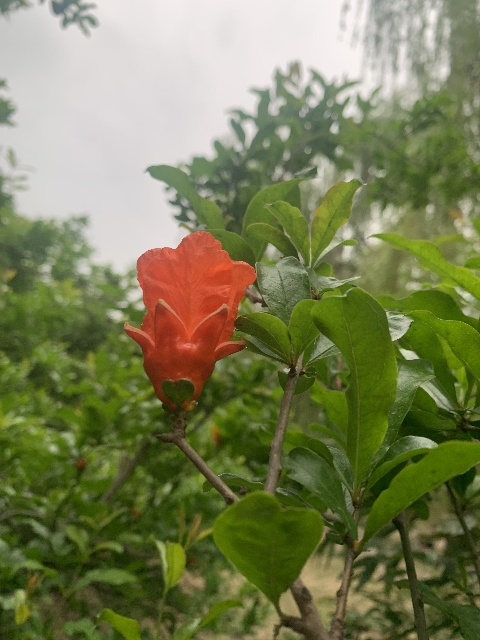flower: (123, 230, 256, 410)
